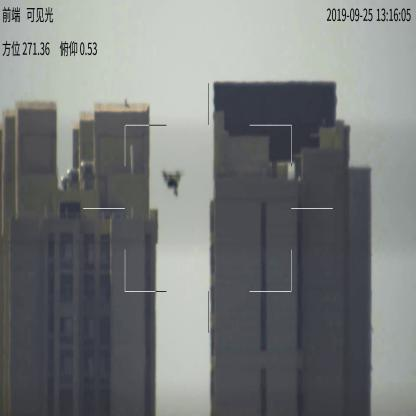uav: (160, 167, 184, 200)
